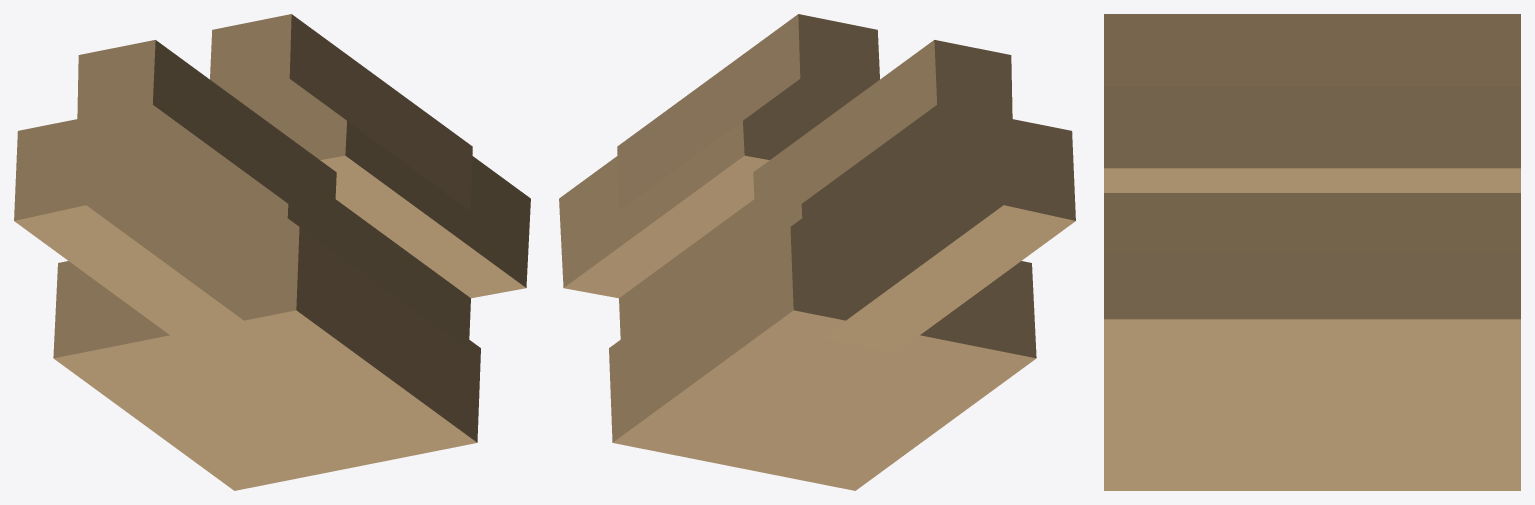
3 views of the same model, side by side, from view 1: azimuth 30°, elevation 25°; view 2: azimuth 150°, elevation 25°; view 3: azimuth 270°, elevation 25° (orthographic). The views are drawn at different scales.
Parts seen in each view (by area): view 1: 0_3_2_0_0_1_2_1; view 2: 0_3_2_0_0_1_2_1; view 3: 0_3_2_0_0_1_2_1.
Part boxes in pixels (x1,y1,x2,y2): 0_3_2_0_0_1_2_1: (14, 14, 530, 490); 0_3_2_0_0_1_2_1: (559, 14, 1075, 490); 0_3_2_0_0_1_2_1: (1104, 14, 1520, 490).
Size of the model in its own units: 28.9 by 25.36 by 27.
